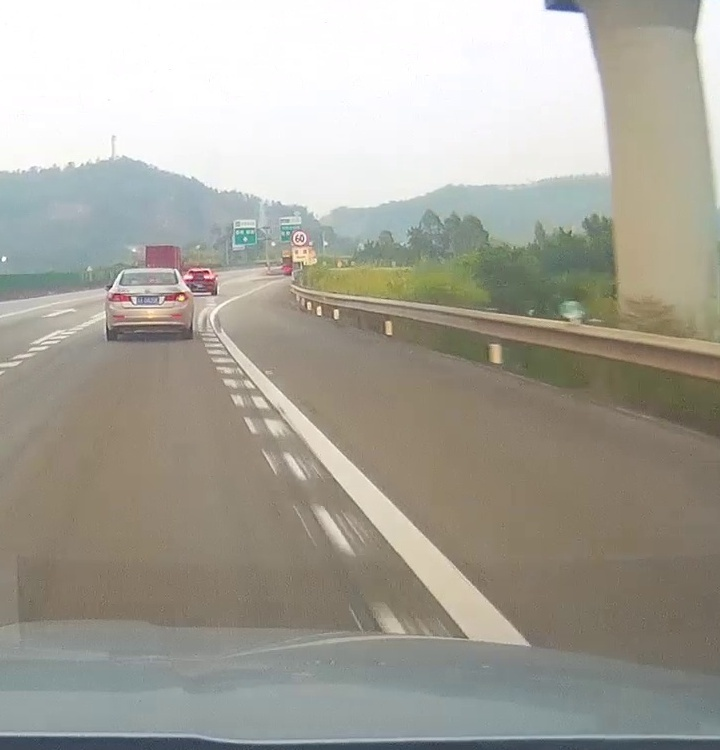L_light: (107, 292, 132, 302)
R_light: (164, 292, 189, 302)
T_light: (140, 283, 155, 285)
day-right: (104, 268, 194, 341)
